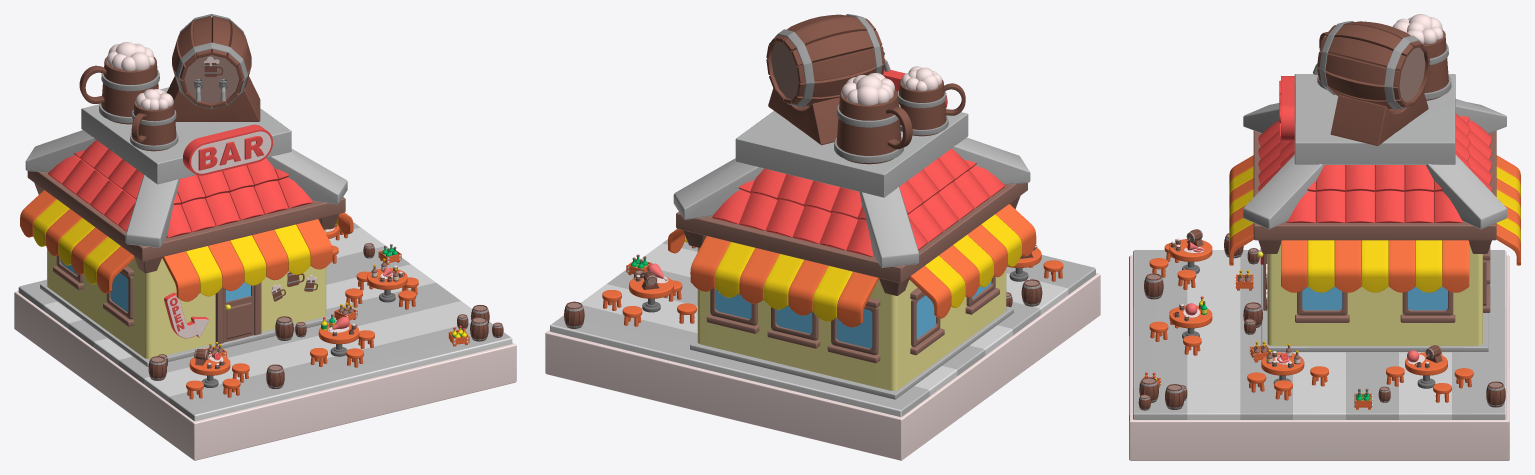
Rendered from Store_Island_16.glb.
3 views of the same model, side by side, from view 1: azimuth 30°, elevation 25°; view 2: azimuth 150°, elevation 25°; view 3: azimuth 270°, elevation 25° (orthographic). The views are drawn at different scales.
Parts seen in each view (by area): view 1: Store_16_Bar_1, Store_16_Base_1, Store_16_Big_Barrel_wiyh_taps_1, Store_16_Big_Beer_mug_1, Store_16_Bar_Sign_1, Store_16_Big_Beer_mug_2, Store_16_Stand_barrel_2, Store_16_Open_Sign_1, Store_16_Table_2, Store_16_Table_4, Store_16_Table_3; view 2: Store_16_Bar_1, Store_16_Base_1, Store_16_Big_Barrel_wiyh_taps_1, Store_16_Big_Beer_mug_1, Store_16_Big_Beer_mug_2, Store_16_Stand_barrel_2, Store_16_Table_1; view 3: Store_16_Bar_1, Store_16_Base_1, Store_16_Big_Barrel_wiyh_taps_1, Store_16_Stand_barrel_2, Store_16_Big_Beer_mug_1, Store_16_Bar_Sign_1, Store_16_Table_1, Store_16_Table_3, Store_16_Table_4, Store_16_Table_2, Store_16_Barrel_3, Store_16_Barrel_11 (+1 smaller).
Part boxes in pixels (left/top/right/bottom): Store_16_Bar_1: left=20, top=87, right=353, bottom=366; Store_16_Base_1: left=14, top=222, right=516, bottom=460; Store_16_Big_Barrel_wiyh_taps_1: left=172, top=14, right=251, bottom=108; Store_16_Big_Beer_mug_1: left=79, top=42, right=159, bottom=124; Store_16_Bar_Sign_1: left=183, top=124, right=272, bottom=175; Store_16_Big_Beer_mug_2: left=130, top=89, right=178, bottom=151; Store_16_Stand_barrel_2: left=166, top=76, right=260, bottom=121; Store_16_Open_Sign_1: left=164, top=292, right=209, bottom=338; Store_16_Table_2: left=367, top=268, right=407, bottom=302; Store_16_Table_4: left=318, top=322, right=359, bottom=356; Store_16_Table_3: left=189, top=354, right=230, bottom=387; Store_16_Bar_1: left=668, top=108, right=1036, bottom=399; Store_16_Base_1: left=545, top=239, right=1100, bottom=460; Store_16_Big_Barrel_wiyh_taps_1: left=766, top=14, right=890, bottom=107; Store_16_Big_Beer_mug_1: left=834, top=73, right=912, bottom=164; Store_16_Big_Beer_mug_2: left=897, top=66, right=965, bottom=136; Store_16_Stand_barrel_2: left=768, top=88, right=839, bottom=145; Store_16_Table_1: left=629, top=277, right=673, bottom=312; Store_16_Bar_1: left=1229, top=74, right=1520, bottom=352; Store_16_Base_1: left=1129, top=250, right=1509, bottom=460; Store_16_Big_Barrel_wiyh_taps_1: left=1313, top=21, right=1430, bottom=109; Store_16_Stand_barrel_2: left=1330, top=92, right=1428, bottom=145; Store_16_Big_Beer_mug_1: left=1392, top=14, right=1451, bottom=100; Store_16_Bar_Sign_1: left=1279, top=76, right=1294, bottom=141; Store_16_Table_1: left=1405, top=352, right=1447, bottom=388; Store_16_Table_3: left=1169, top=239, right=1212, bottom=273; Store_16_Table_4: left=1169, top=305, right=1212, bottom=338; Store_16_Table_2: left=1261, top=352, right=1304, bottom=383; Store_16_Barrel_3: left=1486, top=381, right=1505, bottom=407; Store_16_Barrel_11: left=1144, top=273, right=1163, bottom=299.
Bounding box in the file's own units: 12.86 × 11.65 × 12.29.
Materials: 94 (94 with a texture image).
